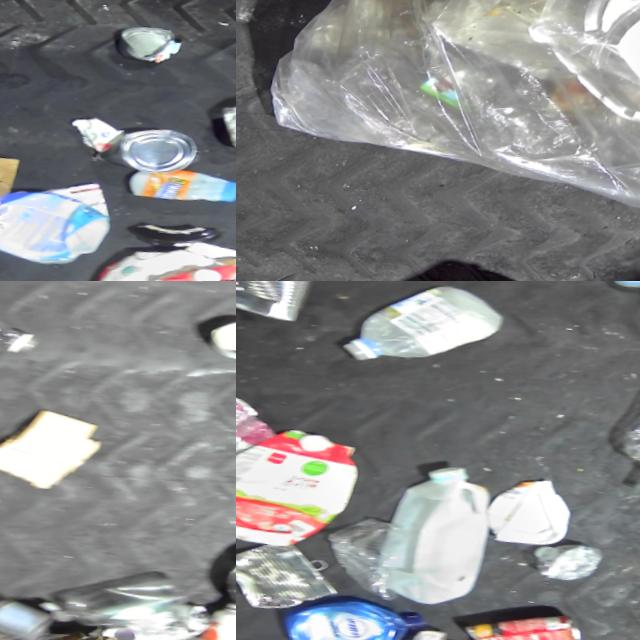can: (236, 533, 353, 622), (94, 123, 205, 187), (111, 597, 225, 640), (465, 606, 603, 640), (236, 281, 332, 329), (110, 24, 187, 73), (236, 391, 289, 461), (209, 320, 236, 375)
milk_jug: (378, 460, 510, 618), (339, 281, 514, 384), (488, 475, 584, 557), (88, 239, 236, 281)
non_white_jug: (236, 416, 372, 560), (282, 590, 438, 640)
plastic_bottle: (0, 281, 59, 369), (537, 544, 614, 593)
